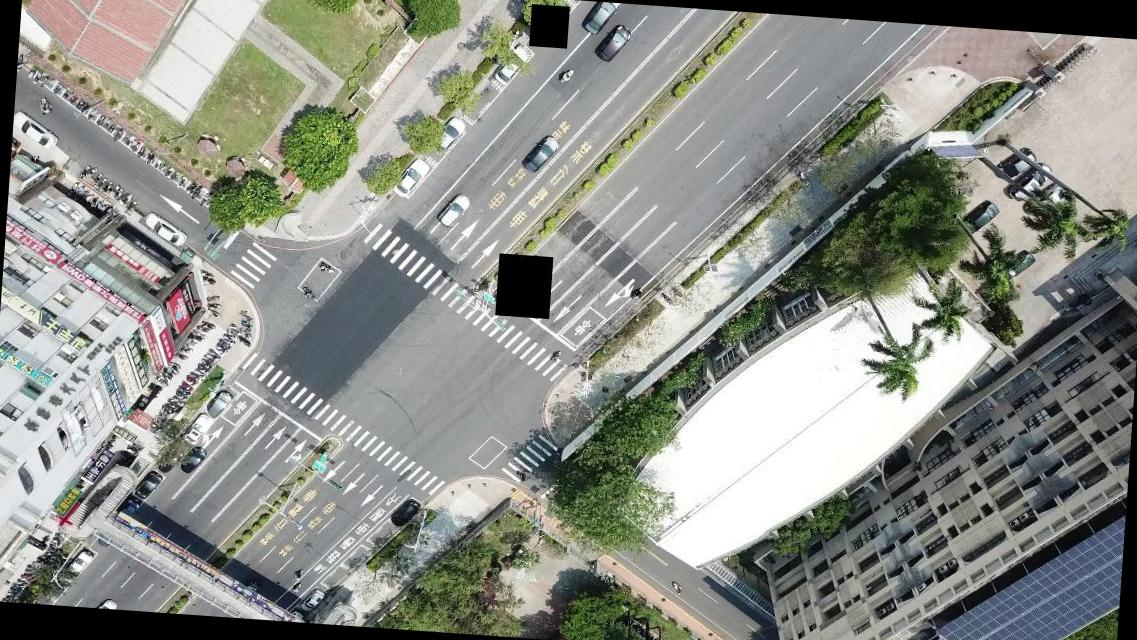vehicle: (1008, 158, 1052, 204), (12, 110, 58, 150), (142, 210, 188, 247), (391, 158, 430, 200), (520, 134, 558, 177), (594, 22, 632, 64), (1024, 184, 1064, 222), (493, 44, 529, 86), (960, 200, 999, 237), (580, 1, 619, 36), (997, 146, 1037, 180), (433, 116, 466, 153), (438, 192, 470, 226), (180, 414, 214, 446), (390, 497, 420, 528), (1004, 250, 1035, 280), (132, 469, 162, 499), (206, 389, 231, 418), (157, 446, 181, 476), (181, 446, 206, 474), (68, 550, 92, 573), (300, 588, 322, 610), (94, 596, 120, 608)
